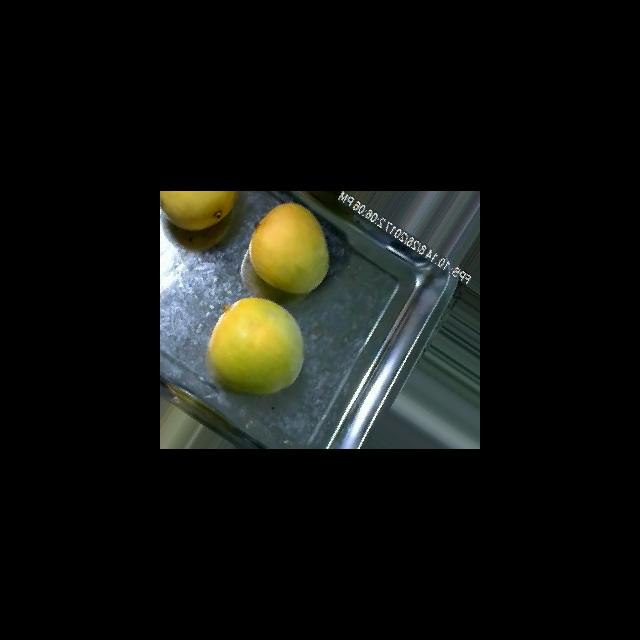mango: (206, 296, 304, 395), (248, 201, 329, 294), (160, 191, 239, 231)
